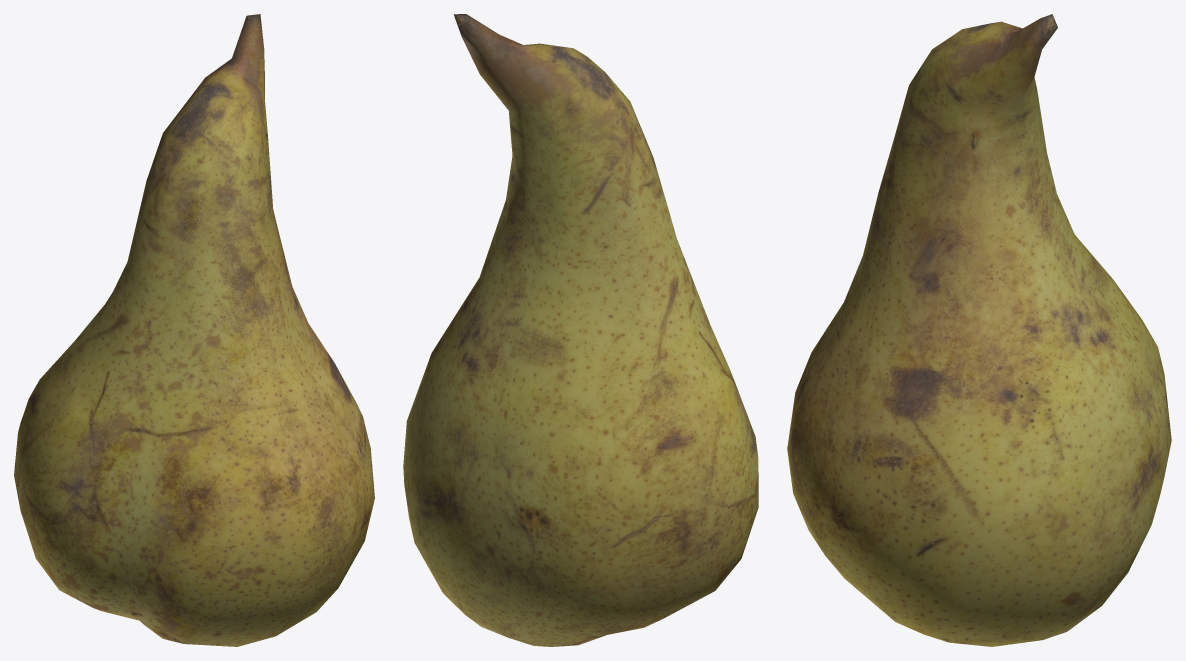
The model's file is 3DPear002_LQ-1K-JPG.obj.
3 views of the same model, side by side, from view 1: azimuth 30°, elevation 25°; view 2: azimuth 150°, elevation 25°; view 3: azimuth 270°, elevation 25° (orthographic). The views are drawn at different scales.
Visible parts, largest first — view 1: 3DPear002_LQ-1K-JPG; view 2: 3DPear002_LQ-1K-JPG; view 3: 3DPear002_LQ-1K-JPG.
Part boxes in pixels (left/top/right/bottom): 3DPear002_LQ-1K-JPG: left=14, top=14, right=374, bottom=646; 3DPear002_LQ-1K-JPG: left=403, top=14, right=758, bottom=646; 3DPear002_LQ-1K-JPG: left=787, top=14, right=1171, bottom=646.
Bounding box in the file's own units: 0.0708 × 0.127 × 0.0681.
Materials: 1 (1 with a texture image).
